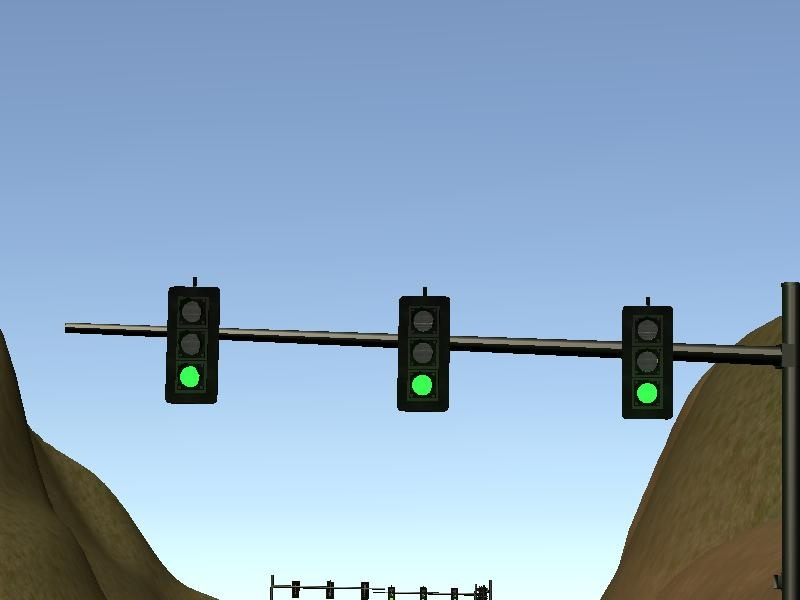GREEN: (164, 287, 220, 404), (622, 306, 673, 420), (398, 297, 449, 411)
